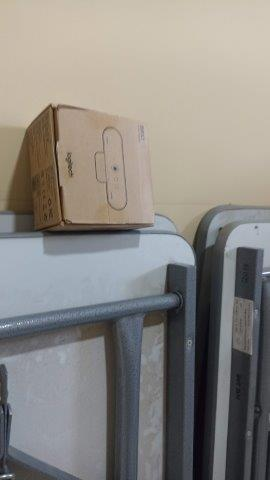kardus: (28, 104, 154, 230)
